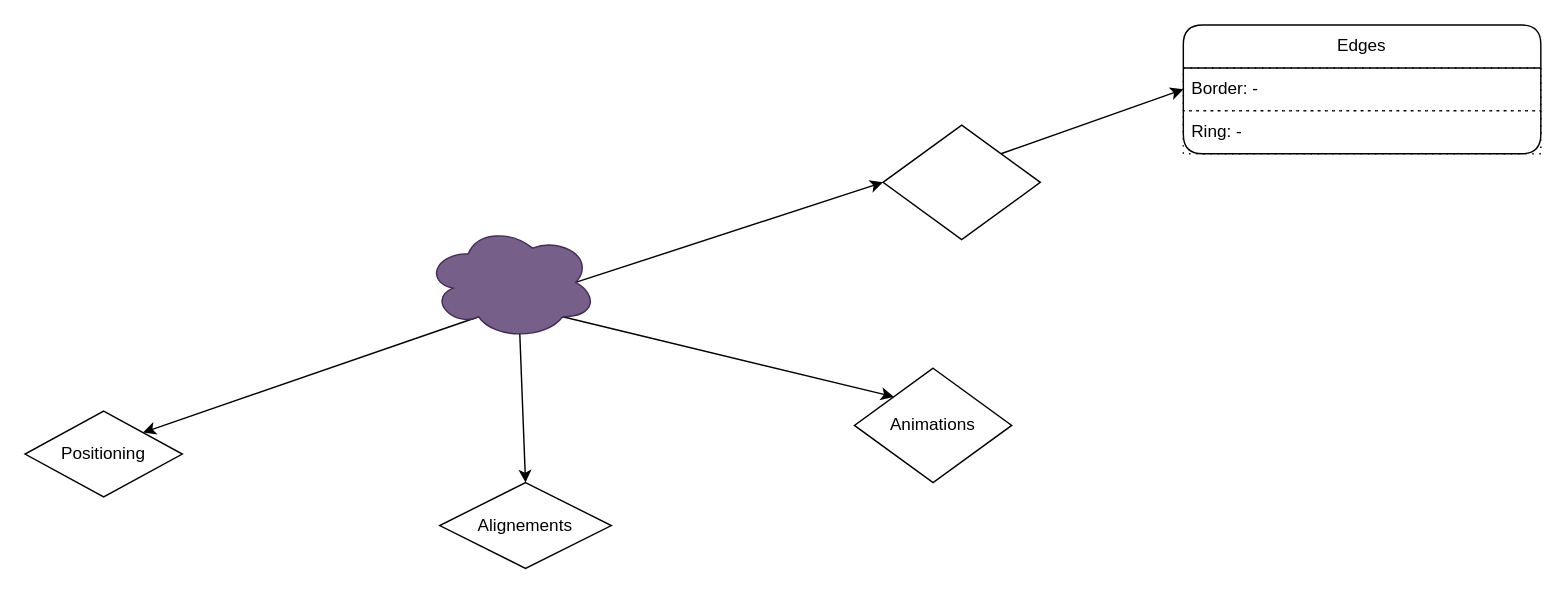
Image size: 1566x593. Some labels were removed from this diagram. The centre of each missing label's shape, as x and y in pixels:
"CSS" goes at point (510, 282).
"Styles" goes at point (961, 182).
